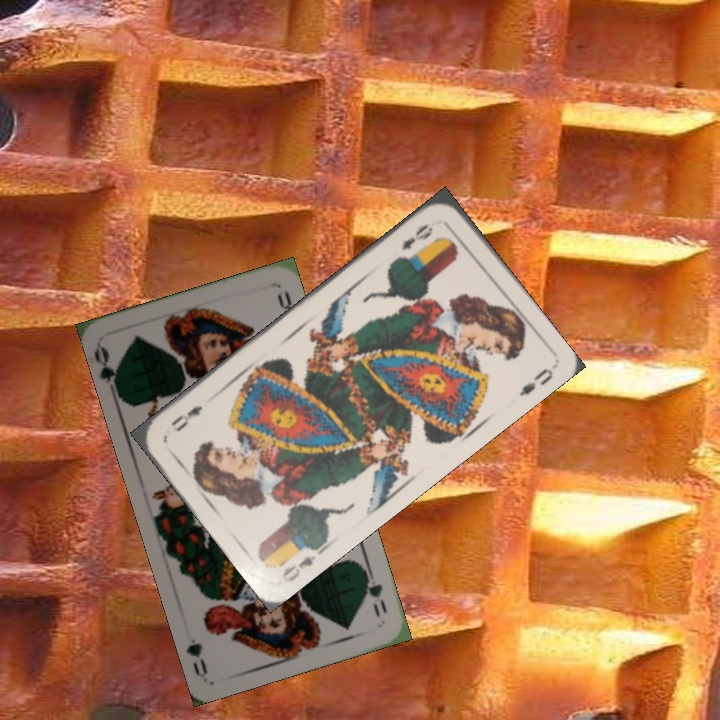EO: (274, 541, 327, 586), (397, 219, 436, 253)
GO: (91, 342, 123, 401), (358, 563, 390, 620)
